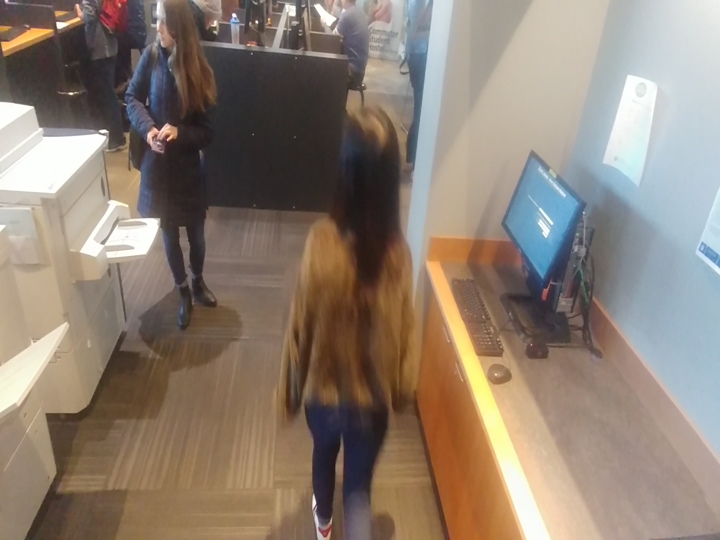face: (319, 90, 410, 254), (143, 0, 199, 61)
human: (269, 98, 428, 540), (122, 0, 228, 333), (75, 0, 134, 158), (324, 0, 380, 95)
